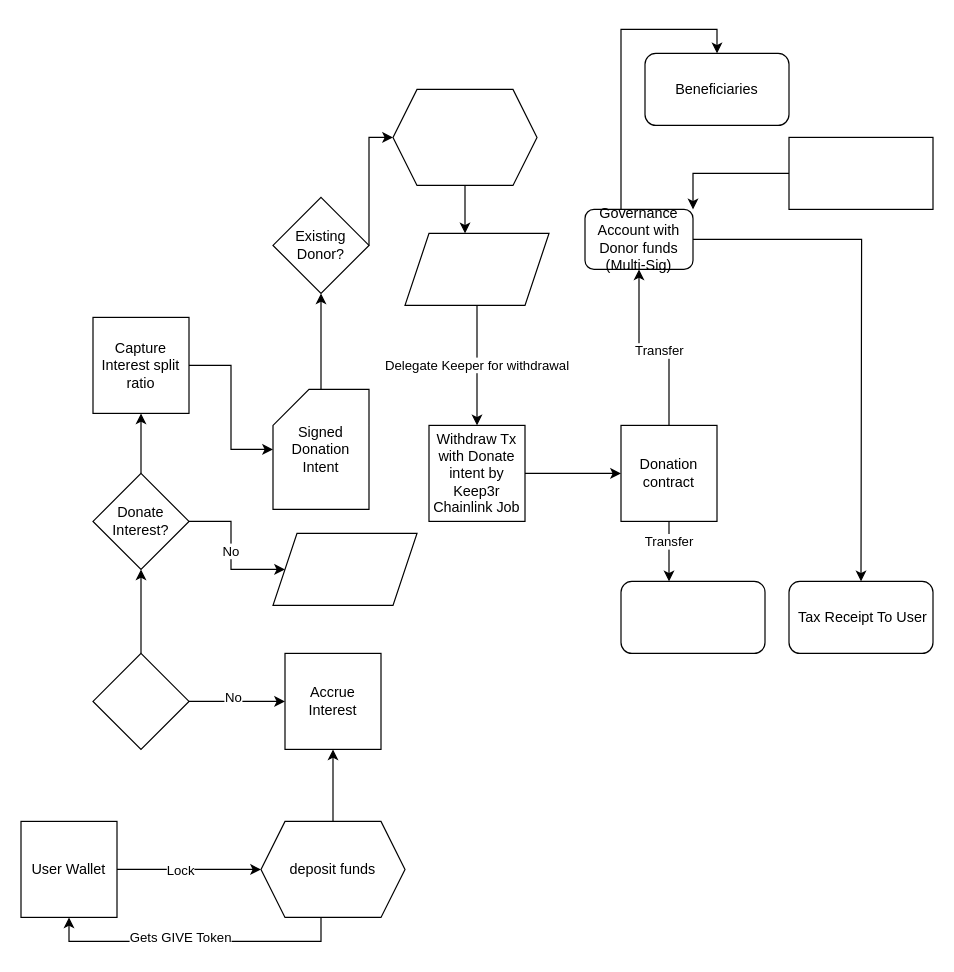
Image size: 954x972. Some labels were removed from this diagram. The centre of each missing label's shape, as x and y in pixels:
"DECO Identity verification" goes at pixel 464 136.
"Issue DECO Identity" goes at pixel 476 268.
"Managed by Leading personalities in the Charity industry" goes at pixel 860 172.
"Receives split interest" goes at pixel 692 616.
"Withdraw Balance" goes at pixel 344 568.
"Withdraw Funds?" goes at pixel 140 700.
